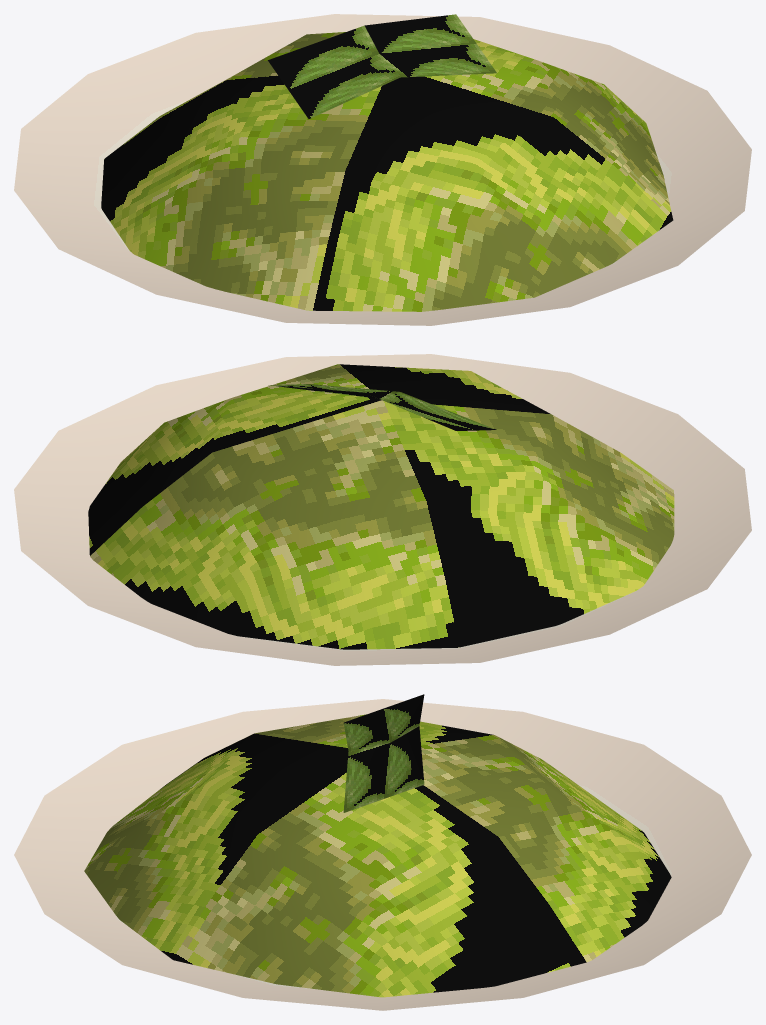
3 renders of one model, top to bottom at view 1: azimuth 30°, elevation 25°; view 2: azimuth 150°, elevation 25°; view 3: azimuth 270°, elevation 25°, orthographic.
Parts seen in each view (by area): view 1: pasta_g; view 2: pasta_g; view 3: pasta_g.
Boxes of the visible parts, <box> form: pasta_g: <box>14,14,751,325</box>; pasta_g: <box>14,354,751,665</box>; pasta_g: <box>14,694,751,1010</box>.
Bounding box in the file's own units: 0.8994 × 0.2891 × 0.8994.
Materials: 3 (3 with a texture image).
